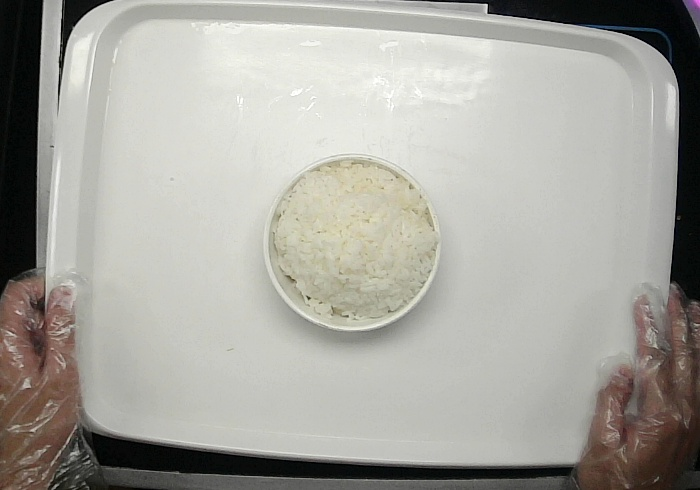HZYJPL-Fan_Wan: (262, 153, 441, 332)
